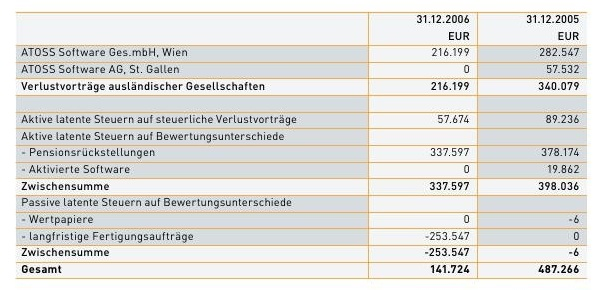table: (0, 0, 598, 290)
